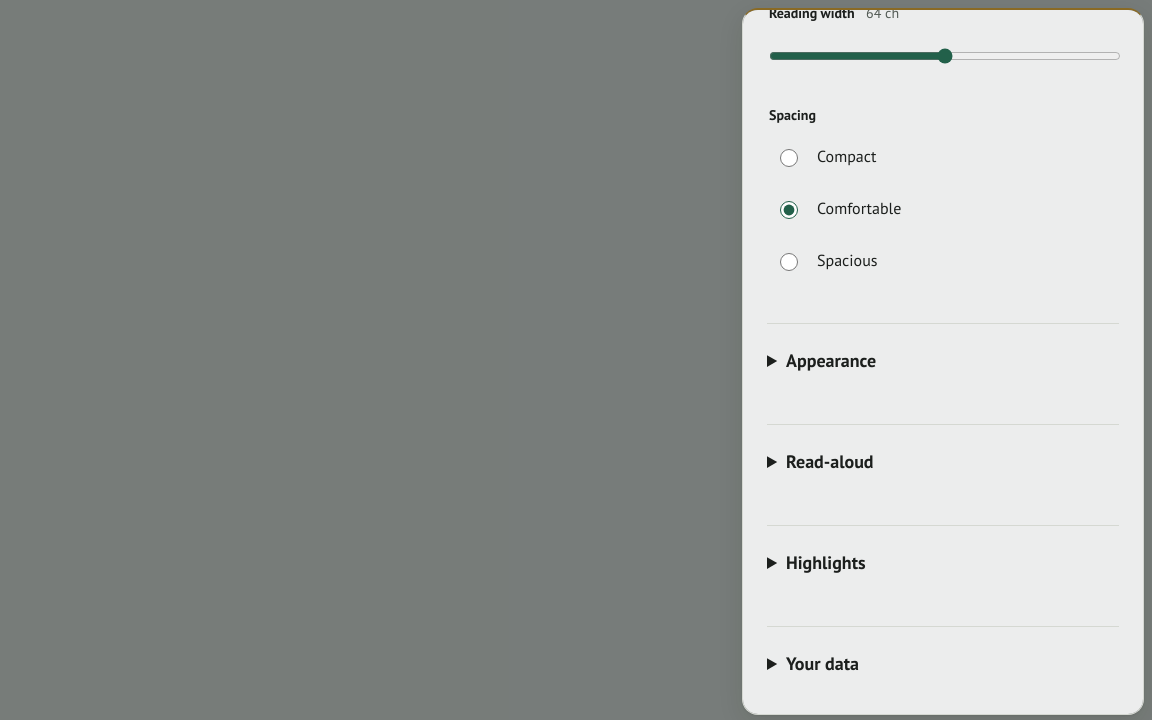
Test case: SettingsPanel — structure + aria (D2-01) › renders a native <dialog> with aria-labelledby='settings-title'
(page scrolled)
What coordinates should you click on to do the following:
click the heading "Appearance"
I would click on:
 (831, 361)
Its box is [786,349,876,372].
(page scrolled)
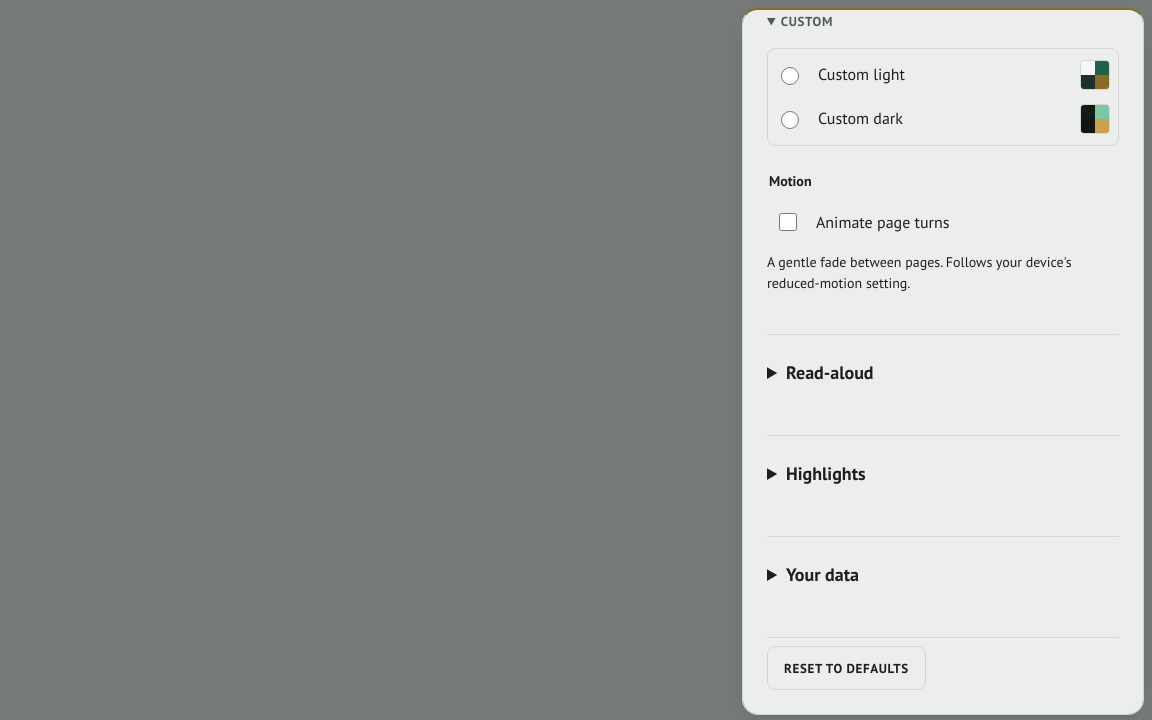
What coordinates should you click on to do the following:
click the heading "Read-aloud"
I would click on:
 (830, 372)
Its box is [786,361,874,384].
(page scrolled)
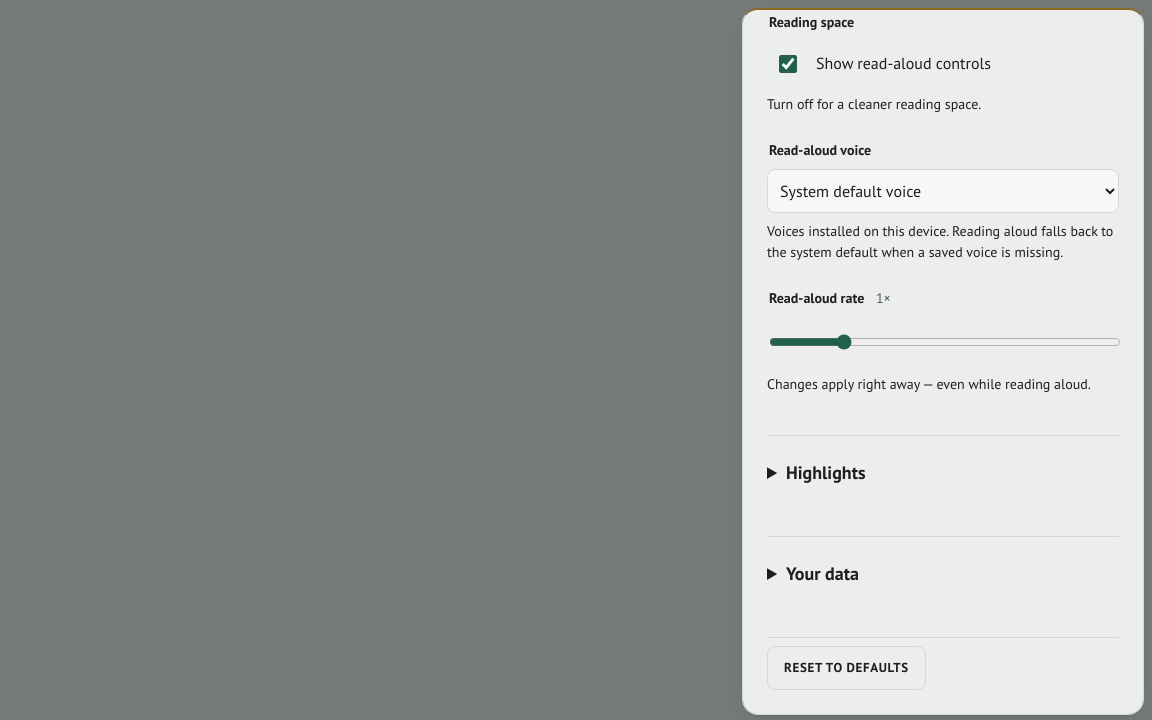
What coordinates should you click on to do the following:
click the heading "Highlights"
I would click on:
 (826, 473)
Its box is [786,461,866,484].
(page scrolled)
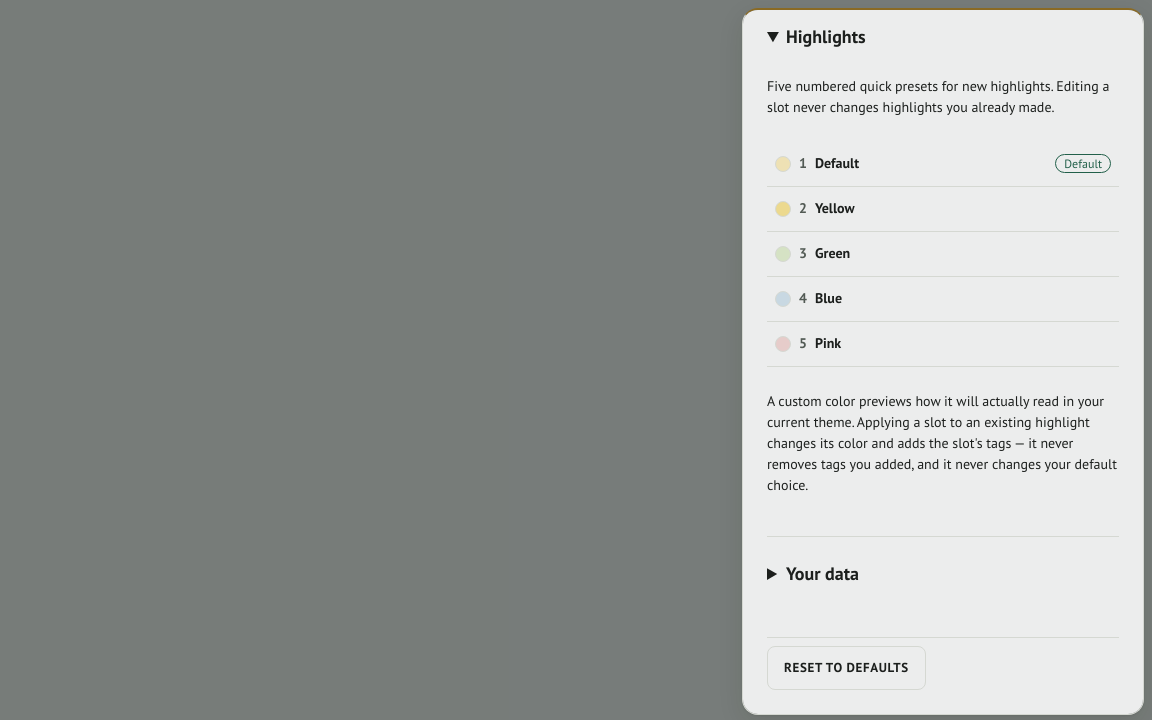
What coordinates should you click on to do the following:
click the heading "Your data"
I would click on:
 (822, 574)
Its box is [786,562,859,585].
(page scrolled)
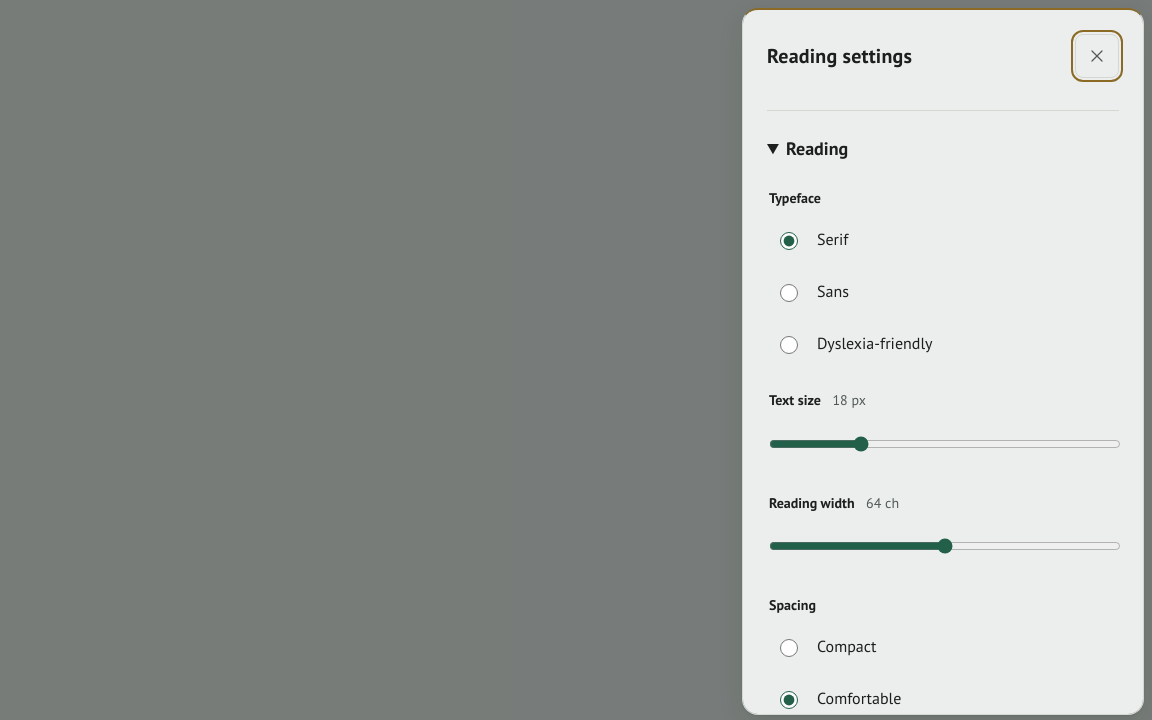
Expected: the dialog with class "settings-panel" is shown, [742,8,1144,715]
Expected: the heading with id "settings-title" reads "Reading settings", [767,43,912,69]
